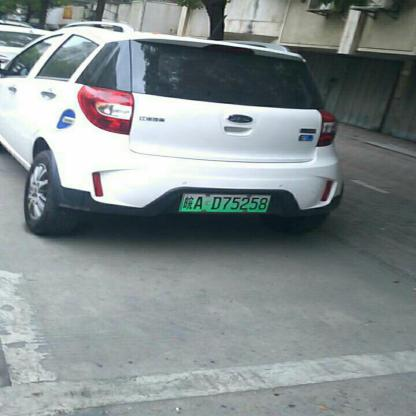lp: (179, 192, 271, 212)
